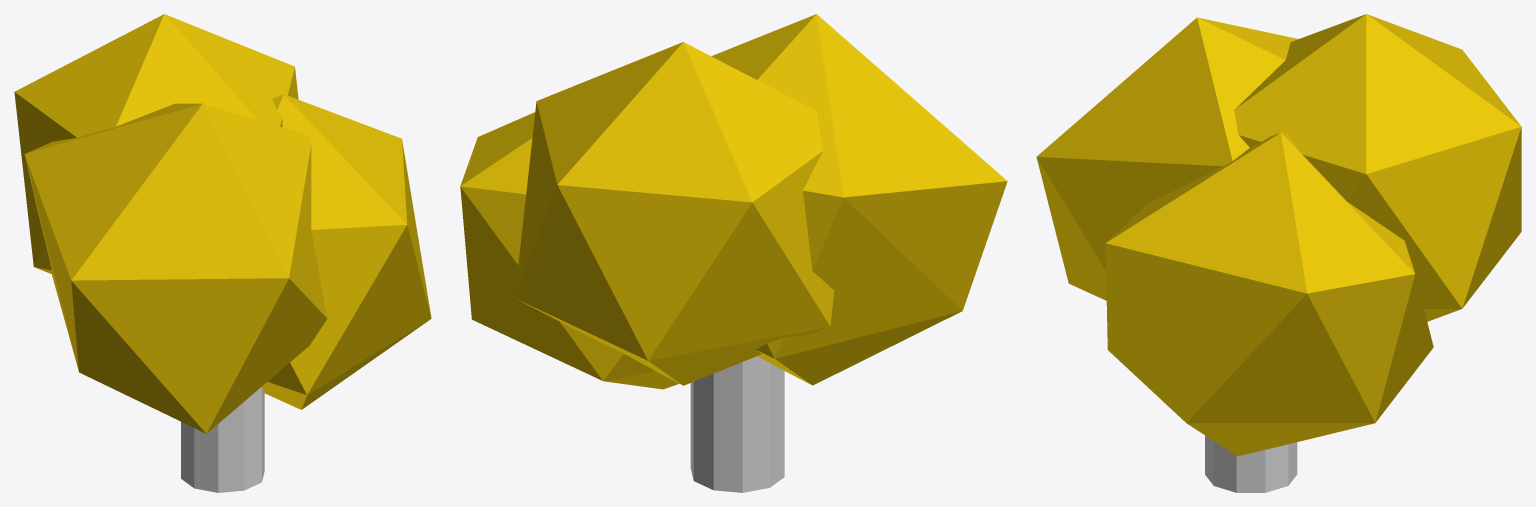
The model's file is Bush.fbx.
3 renders of one model, left to right at view 1: azimuth 30°, elevation 25°; view 2: azimuth 150°, elevation 25°; view 3: azimuth 270°, elevation 25°, orthographic. The views are drawn at different scales.
Visible parts, largest first — view 1: Cylinder; view 2: Cylinder; view 3: Cylinder.
Part boxes in pixels (x1,y1,x2,y2): Cylinder: (14, 14, 431, 492); Cylinder: (460, 14, 1007, 492); Cylinder: (1036, 14, 1521, 492).
Size of the model in its own units: 1.4 by 1.42 by 1.36.
